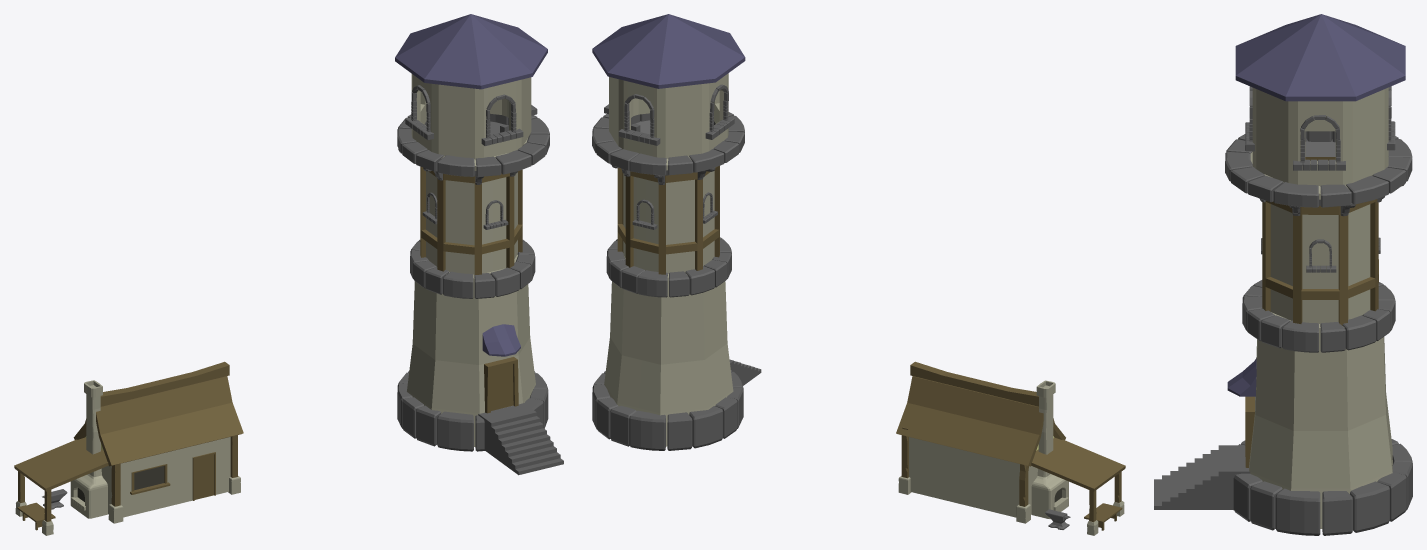
The model's file is NEW_POITower1.fbx.
The picture shows the model from 3 angles, left to right: view 1: azimuth 30°, elevation 25°; view 2: azimuth 150°, elevation 25°; view 3: azimuth 270°, elevation 25°; orthographic projection. The views are drawn at different scales.
Parts seen in each view (by area): view 1: Plane.005, Cylinder, Cylinder.001, Cylinder.002, Cube.003, Plane, Cube.001, Cube.002, Cube.005, Cube.008; view 2: Cylinder, Plane.005, Cylinder.001, Cube.003, Cylinder.002, Cube.001, Cube.002, Cube.006, Cube.008; view 3: Cylinder, Cylinder.001, Cube.003, Cylinder.002, Cube.001, Cube.002, Plane, Cube.012, Cylinder.003, Cube.009, Cube.005, Cube.006.
Boxes of the visible parts, bbox=[...] form: Plane.005: bbox=[14, 361, 243, 535]; Cylinder: bbox=[407, 74, 535, 446]; Cylinder.001: bbox=[395, 14, 547, 356]; Cylinder.002: bbox=[420, 166, 522, 413]; Cube.003: bbox=[397, 371, 548, 451]; Plane: bbox=[478, 403, 563, 475]; Cube.001: bbox=[397, 113, 549, 176]; Cube.002: bbox=[410, 240, 535, 298]; Cube.005: bbox=[481, 94, 523, 145]; Cube.008: bbox=[405, 85, 433, 140]; Cylinder: bbox=[604, 73, 733, 446]; Plane.005: bbox=[896, 361, 1125, 535]; Cylinder.001: bbox=[592, 14, 745, 88]; Cube.003: bbox=[592, 370, 743, 450]; Cylinder.002: bbox=[617, 165, 719, 274]; Cube.001: bbox=[592, 112, 744, 175]; Cube.002: bbox=[606, 237, 731, 297]; Cube.006: bbox=[618, 94, 660, 145]; Cube.008: bbox=[705, 84, 734, 139]; Cylinder: bbox=[1249, 87, 1392, 528]; Cylinder.001: bbox=[1227, 14, 1405, 396]; Cube.003: bbox=[1233, 439, 1412, 535]; Cylinder.002: bbox=[1245, 157, 1378, 467]; Cube.001: bbox=[1225, 131, 1412, 207]; Cube.002: bbox=[1242, 280, 1395, 352]; Plane: bbox=[1154, 445, 1250, 509]; Cube.012: bbox=[1293, 115, 1345, 170]; Cylinder.003: bbox=[1305, 139, 1335, 205]; Cube.009: bbox=[1306, 239, 1336, 272]; Cube.005: bbox=[1245, 86, 1254, 151]; Cube.006: bbox=[1387, 86, 1395, 150].
Size of the model in its own units: 2257 by 1712 by 830.
